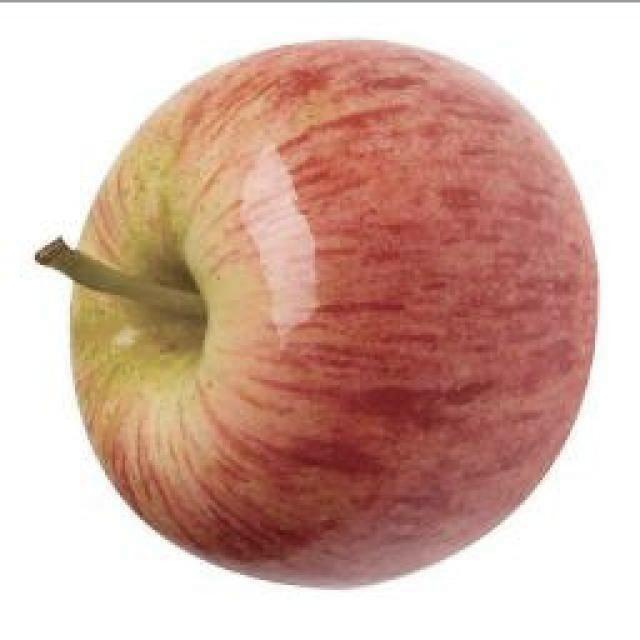Apple: (39, 41, 596, 584), (39, 41, 596, 584)
